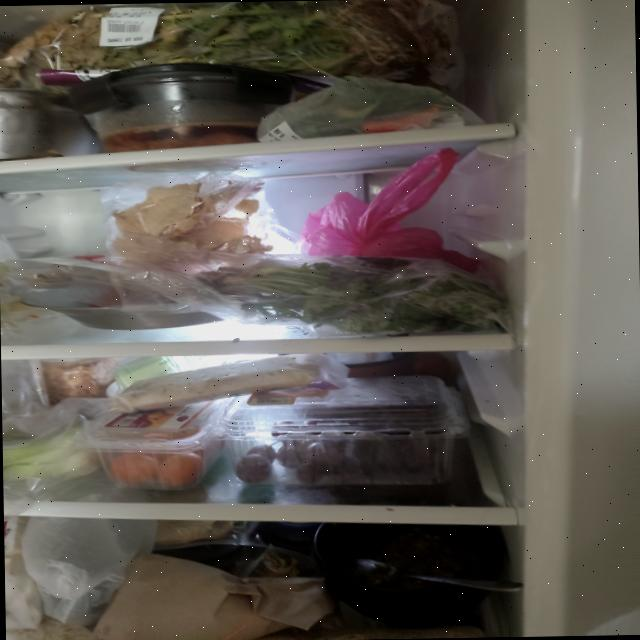grape: (234, 404, 451, 484)
leafy_greens: (5, 0, 467, 82), (2, 420, 103, 482)
tempeh: (110, 353, 330, 411)
unknown_bag: (299, 147, 483, 276), (256, 75, 488, 144), (22, 516, 156, 624)
